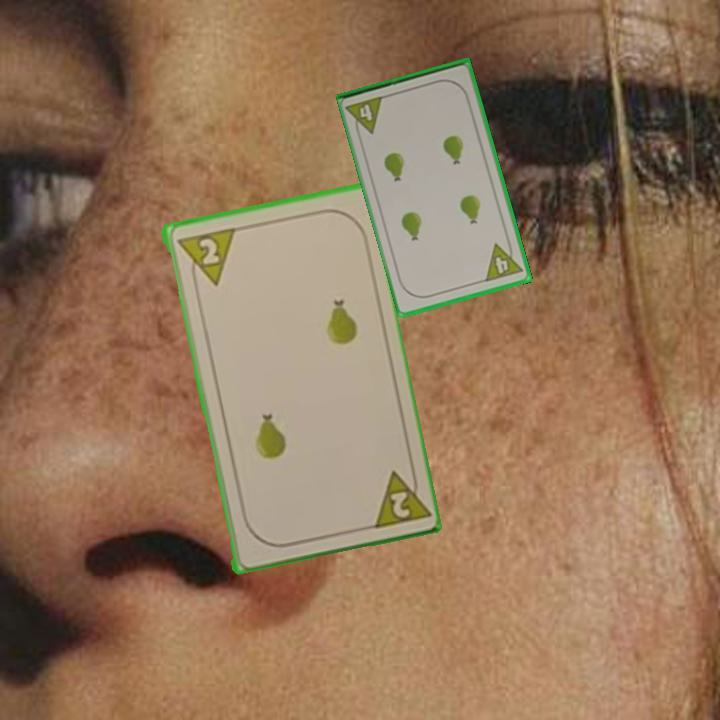2p: (365, 461, 430, 532), (173, 224, 236, 291)
4p: (343, 92, 387, 139), (482, 237, 525, 285)
